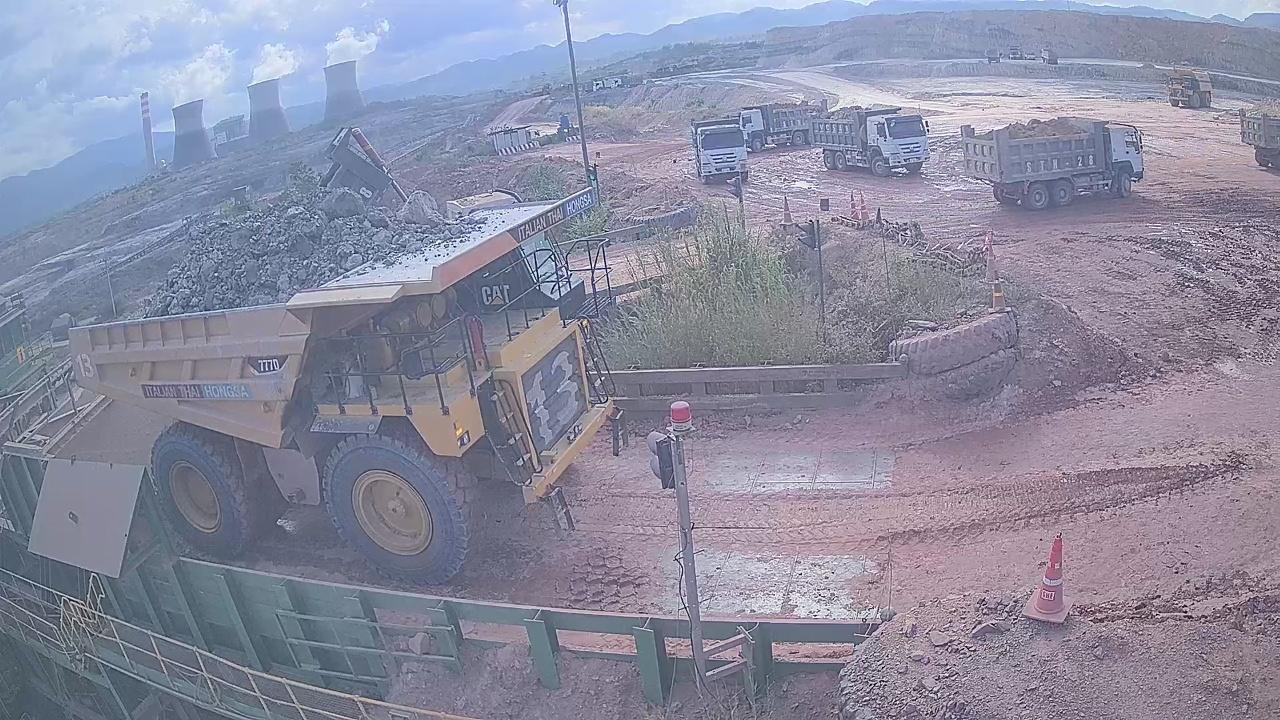company: (139, 379, 259, 402)
front_number: (513, 329, 590, 451)
full_load: (132, 186, 427, 310)
mining truck: (46, 178, 630, 587)
tail_number: (70, 349, 100, 386)
truck_size: (240, 351, 296, 379)
